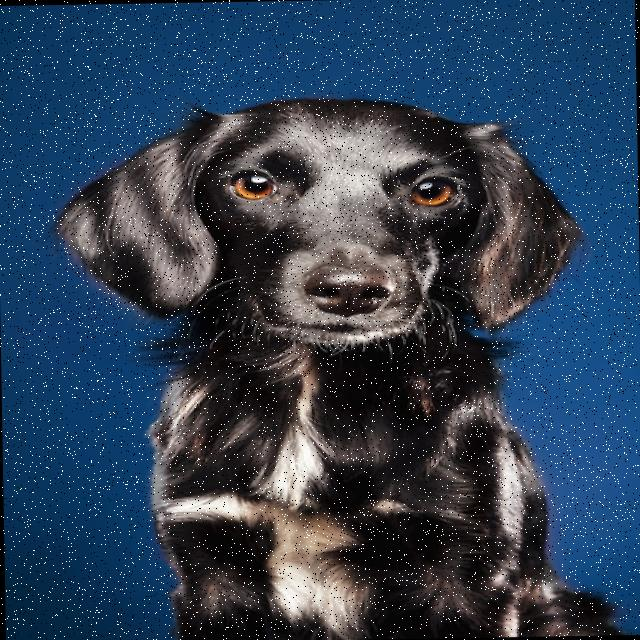Dog: (52, 88, 615, 640)
